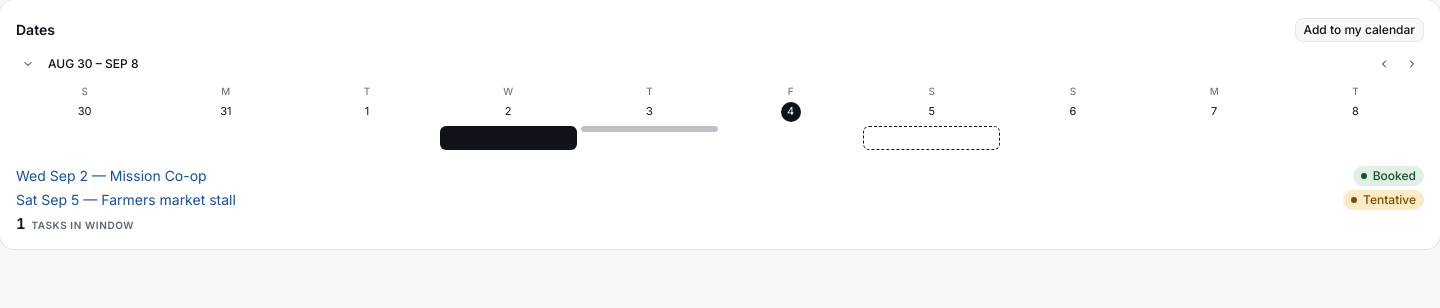
Test case: DatesPanel › slides the strip and fetches the uncovered range
The width and height of the screenshot is (1440, 308).
Click the button named "Later dates": (1412, 64) [1400,52,1424,76]
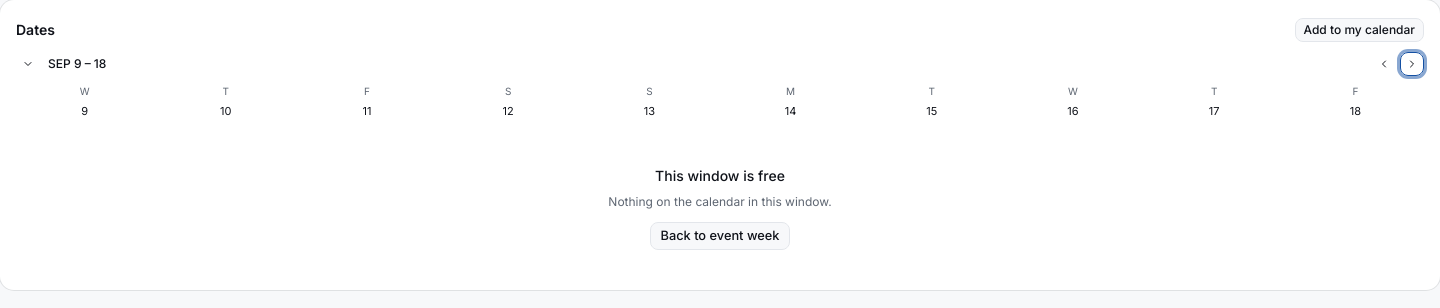
Now the text "SEP 9 – 18" is shown, box [48,56,106,72]
